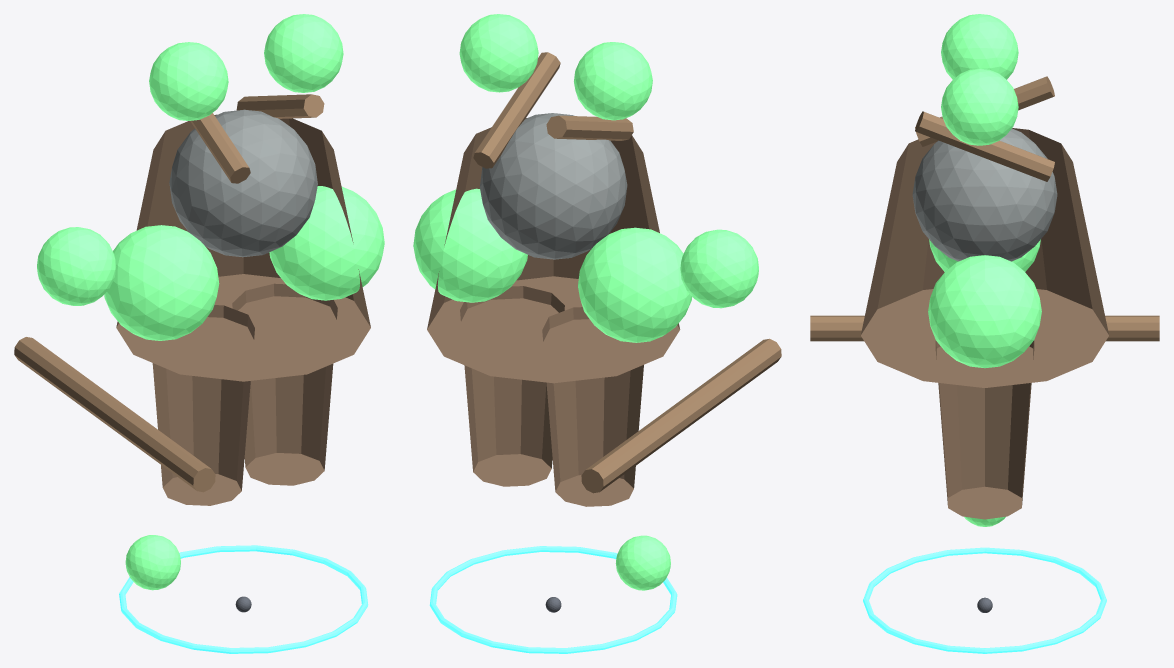
The model's file is nature-guardian-v2.glb.
3 views of the same model, side by side, from view 1: azimuth 30°, elevation 25°; view 2: azimuth 150°, elevation 25°; view 3: azimuth 270°, elevation 25° (orthographic). The views are drawn at different scales.
Visible parts, largest first — view 1: Torso, Head, Shoulder_-1, Leg_-1, Leg_1, Shoulder_1, Staff_0, Leaf_-1, Leaf_1, Staff_1, SelectionRing, Staff_2 (+2 smaller); view 2: Torso, Head, Shoulder_-1, Leg_-1, Leg_1, Shoulder_1, Staff_0, Leaf_1, Staff_1, Leaf_-1, SelectionRing, Branch_1 (+2 smaller); view 3: Torso, Head, Leg_1, Shoulder_1, Leaf_1, Leaf_-1, SelectionRing, Staff_0, Branch_1, Branch_-1, Shoulder_-1.
Part boxes in pixels (x1,y1,x2,y2): Torso: (116,114,370,381); Head: (169,109,317,257); Shoulder_-1: (104,225,219,340); Leg_-1: (152,305,254,505); Leg_1: (232,283,337,485); Shoulder_1: (269,186,384,300); Staff_0: (14,337,215,492); Leaf_-1: (149,42,228,120); Leaf_1: (264,14,343,92); Staff_1: (37,227,116,305); SelectionRing: (119,545,368,653); Staff_2: (125,535,180,590); Torso: (427,118,680,383); Head: (479,113,627,259); Shoulder_-1: (578,227,692,342); Leg_-1: (542,307,643,506); Leg_1: (460,286,564,486); Shoulder_1: (413,188,527,302); Staff_0: (581,338,781,493); Leaf_1: (459,14,538,92); Staff_1: (680,229,758,308); Leaf_-1: (574,42,652,120); SelectionRing: (429,546,677,653); Branch_1: (473,52,560,168); Torso: (861,128,1108,387); Head: (912,128,1057,261); Leg_1: (935,340,1034,519); Shoulder_1: (928,255,1041,368); Leaf_1: (941,68,1018,145); Leaf_-1: (941,14,1018,79); SelectionRing: (863,547,1106,653); Staff_0: (810,315,1159,341); Branch_1: (915,111,1054,181); Branch_-1: (915,76,1054,146); Shoulder_-1: (929,239,1040,271).
Size of the model in its own units: 1.45 by 2.42 by 1.35.
